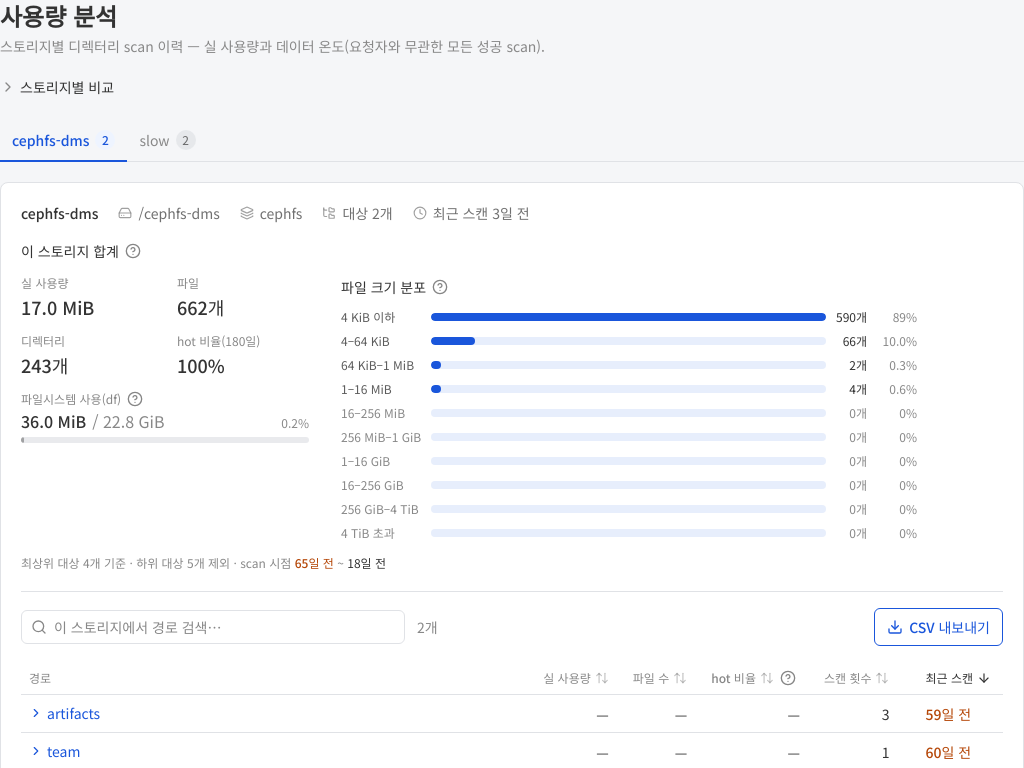
Test: 탭을 바꾸는 동안 이전 스토리지의 행을 새 탭 아래 보이지 않는다(자리표시는 같은 스토리지 안에서만)
The image size is (1024, 768).
expect the button "artifacts" is shown: met, box [29,703,100,723]
Click the tab "slow 2".
click(168, 141)  # box [127,120,208,162]
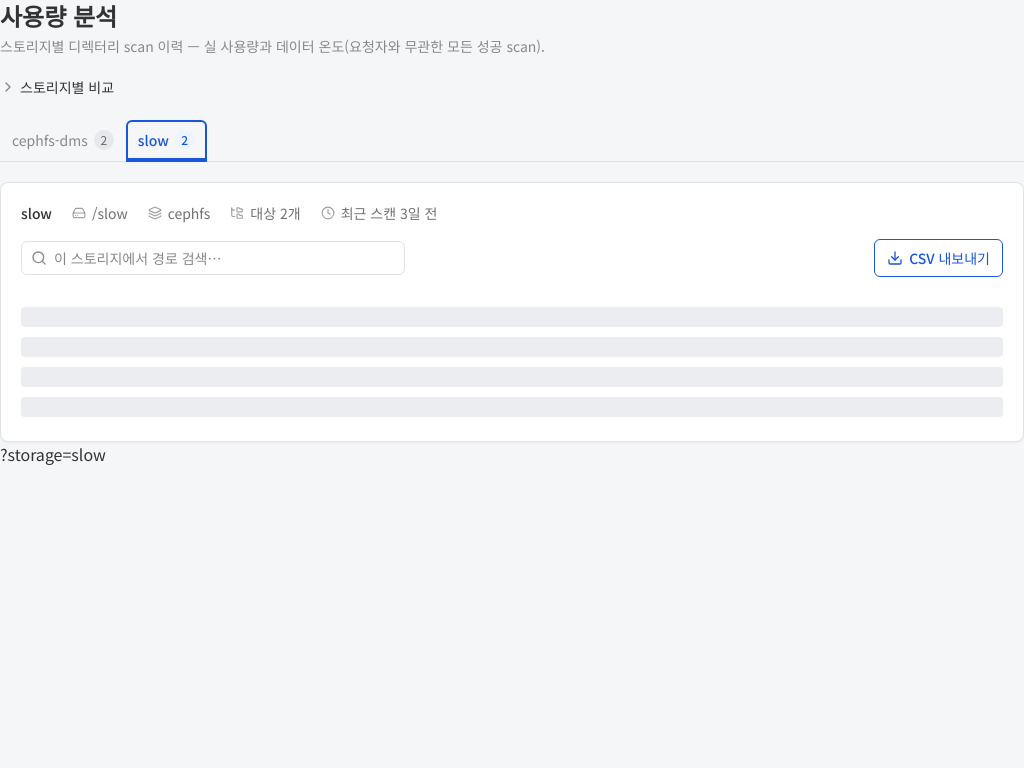
expect the button "artifacts" is gone: met
